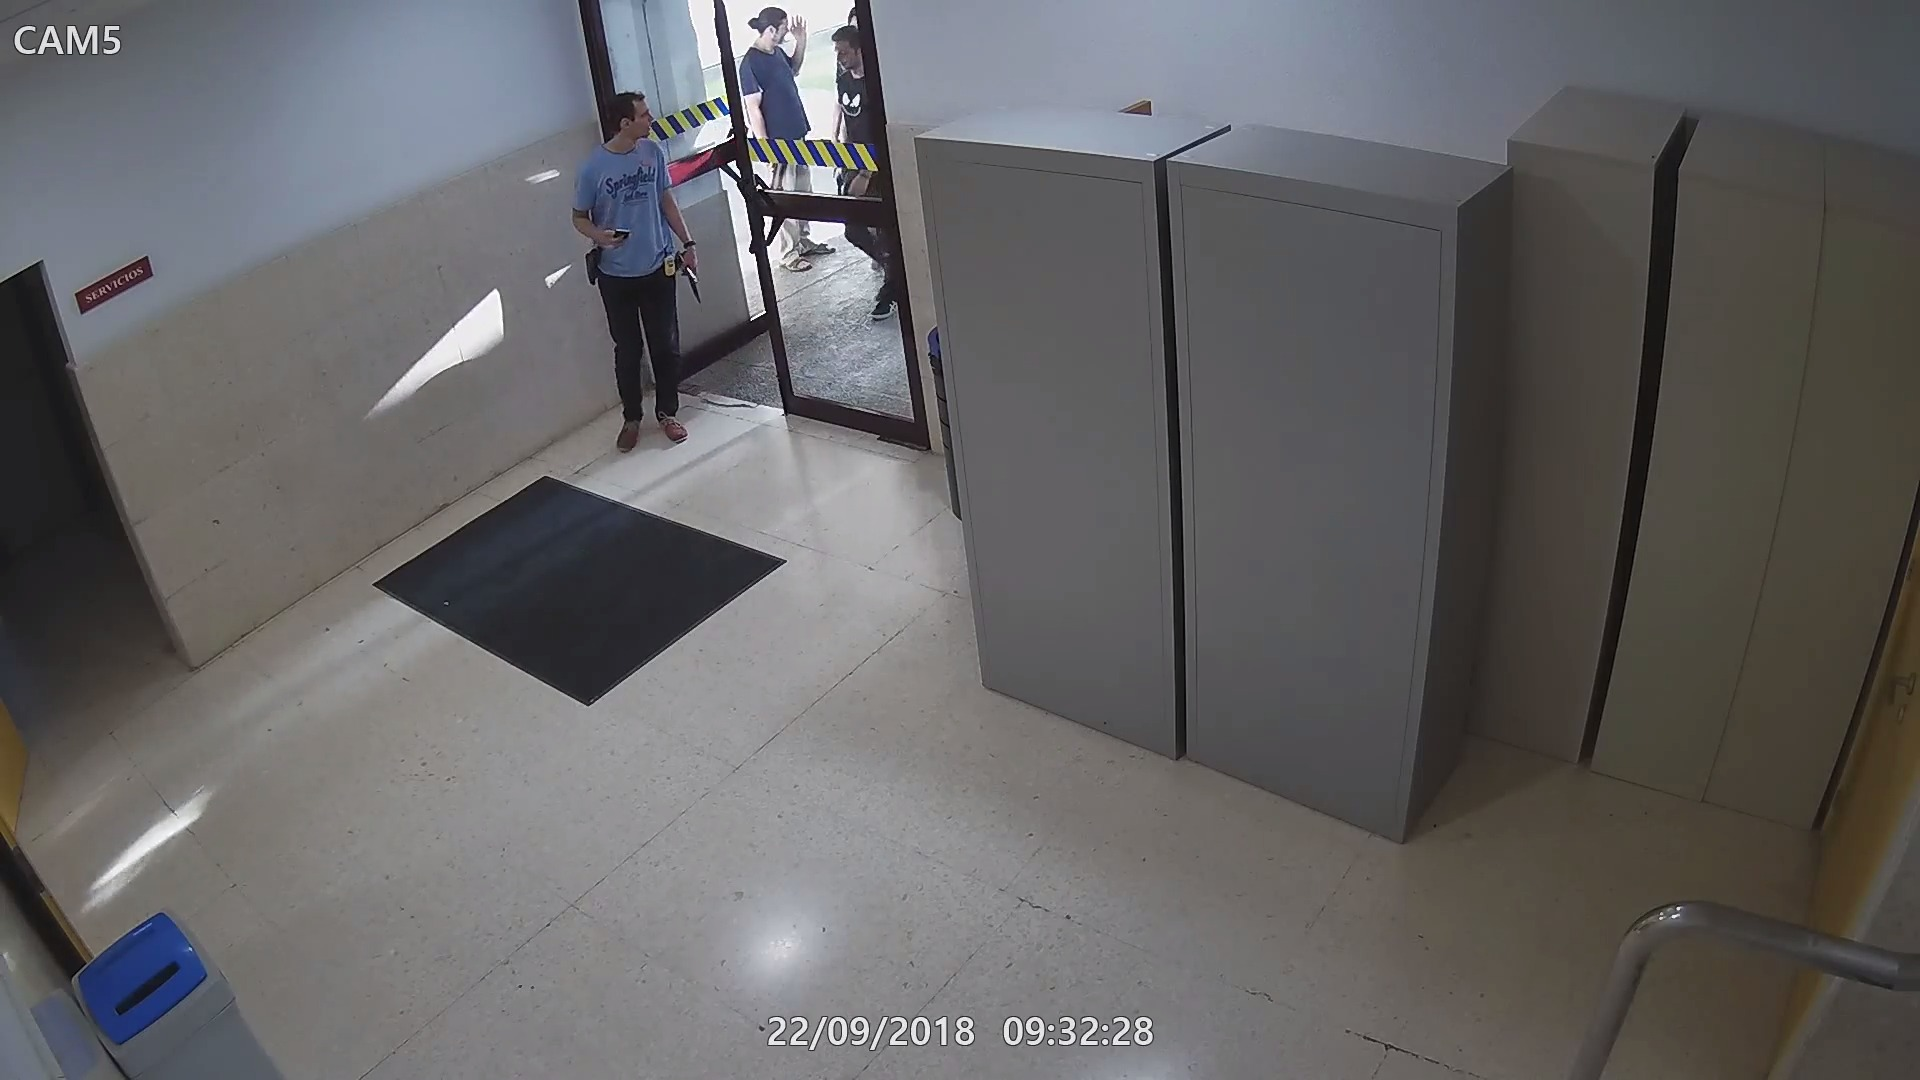Handgun: (674, 243, 705, 305)
Knife: (680, 249, 702, 299)
